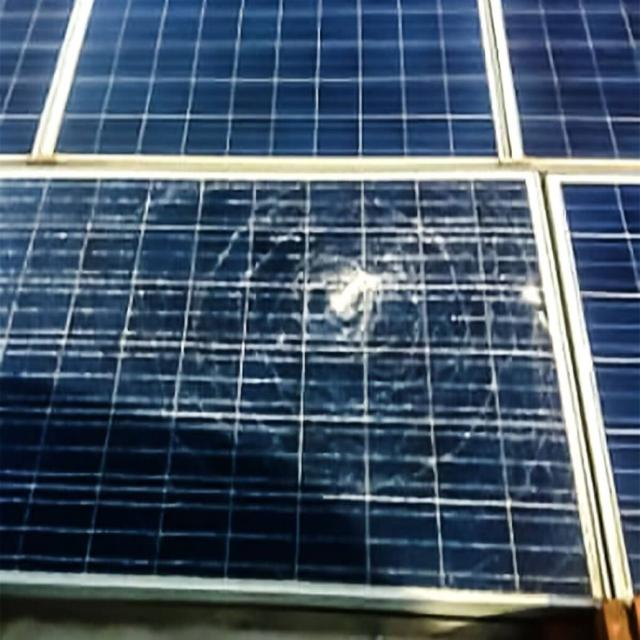physical damage: (176, 179, 433, 432)
